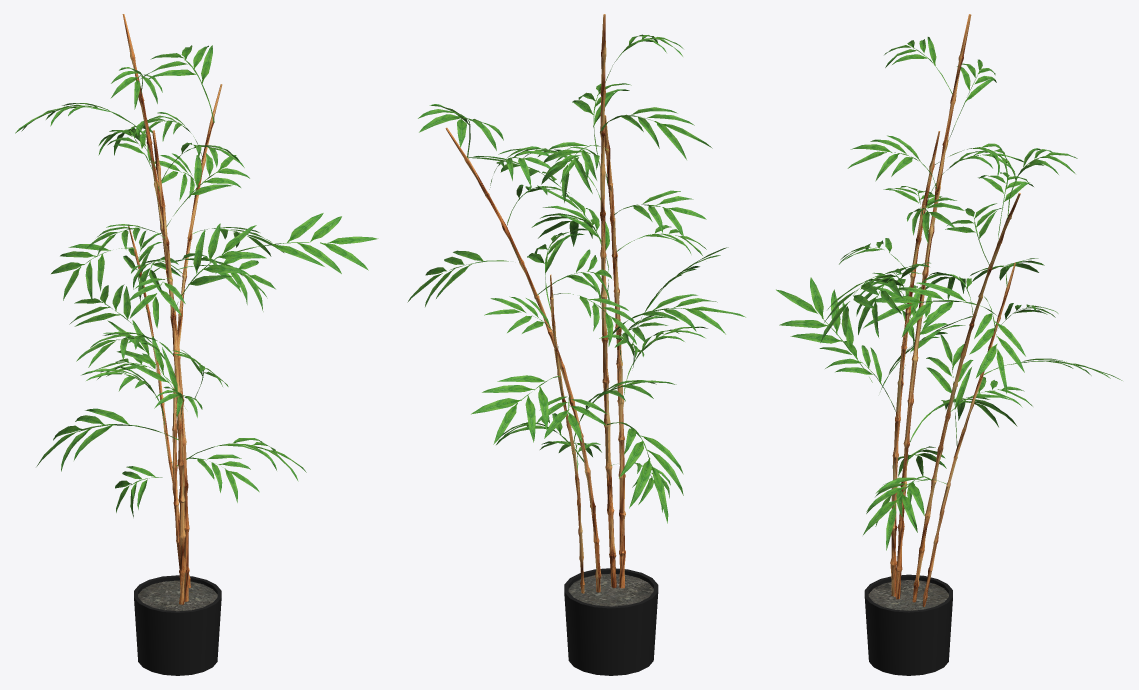
The model's file is Plant 1.FBX.
The picture shows the model from 3 angles, left to right: view 1: azimuth 30°, elevation 25°; view 2: azimuth 150°, elevation 25°; view 3: azimuth 270°, elevation 25°; orthographic projection. The views are drawn at different scales.
Parts seen in each view (by area): view 1: plant 1; view 2: plant 1; view 3: plant 1.
Part boxes in pixels (x1,y1,x2,y2): plant 1: [15, 14, 378, 675]; plant 1: [407, 14, 745, 675]; plant 1: [776, 14, 1122, 675].
Bounding box in the file's own units: 97.14 × 195 × 97.7.
Materials: 1 (1 with a texture image).
